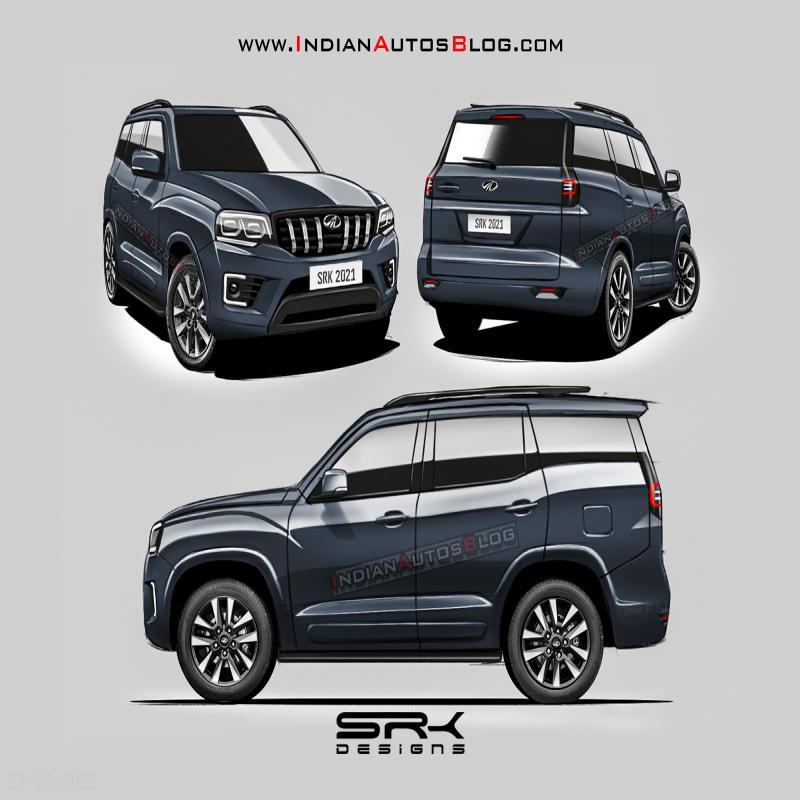car: (107, 376, 674, 733), (89, 96, 414, 334), (422, 94, 691, 334)
